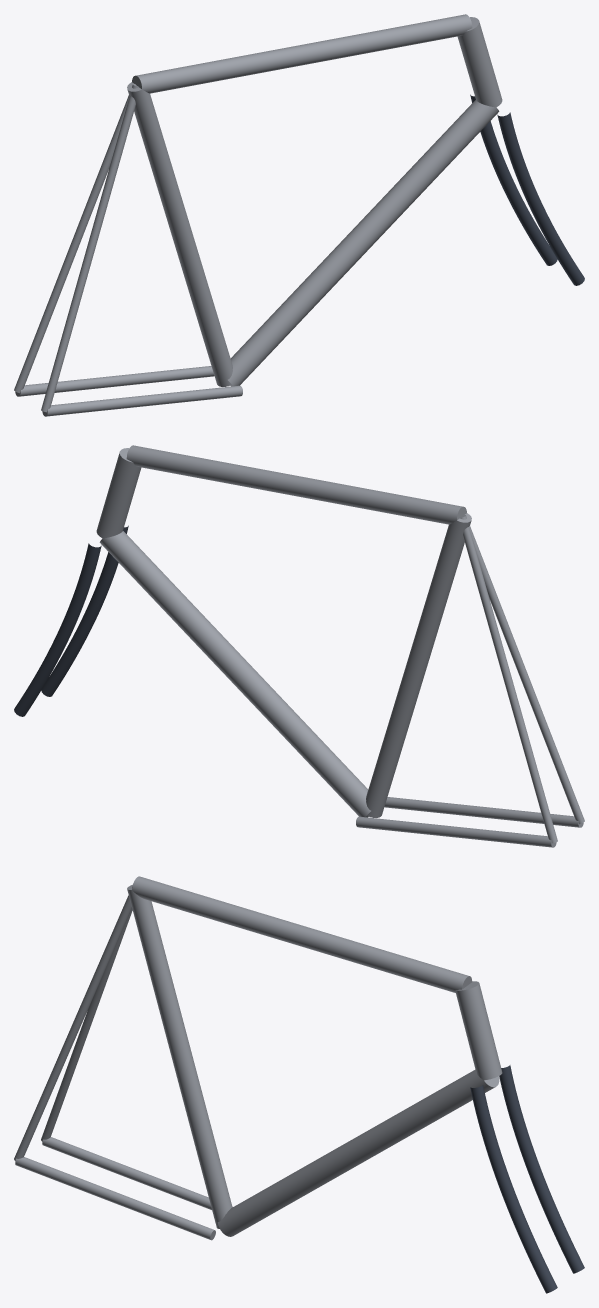
Rendered from cinelli-vigorelli-rainbow-xl.glb.
3 renders of one model, top to bottom at view 1: azimuth 30°, elevation 25°; view 2: azimuth 150°, elevation 25°; view 3: azimuth 330°, elevation 25°, orthographic.
Visible parts, largest first — view 1: paint_down, paint_top, paint_seat, paint_seatstay_0.045, paint_seatstay_-0.045, fork_0.045, paint_chainstay_0.045, paint_chainstay_-0.045, fork_-0.045, paint_head; view 2: paint_down, paint_top, paint_seat, paint_seatstay_-0.045, paint_seatstay_0.045, fork_-0.045, paint_chainstay_-0.045, paint_chainstay_0.045, fork_0.045, paint_head; view 3: paint_down, paint_top, paint_seat, fork_0.045, fork_-0.045, paint_seatstay_0.045, paint_head, paint_chainstay_0.045, paint_chainstay_-0.045, paint_seatstay_-0.045.
Boxes of the visible parts, <box> form: paint_down: <box>228,100,499,386</box>; paint_top: <box>132,14,472,93</box>; paint_seat: <box>127,82,232,386</box>; paint_seatstay_0.045: <box>41,85,138,412</box>; paint_seatstay_-0.045: <box>14,84,136,393</box>; fork_0.045: <box>497,112,584,285</box>; paint_chainstay_0.045: <box>42,385,242,416</box>; paint_chainstay_-0.045: <box>15,366,214,396</box>; fork_-0.045: <box>470,94,557,265</box>; paint_head: <box>457,17,502,107</box>; paint_down: <box>99,531,370,817</box>; paint_top: <box>126,445,466,524</box>; paint_seat: <box>366,513,471,817</box>; paint_seatstay_-0.045: <box>460,516,557,843</box>; paint_seatstay_0.045: <box>462,515,584,824</box>; fork_-0.045: <box>14,543,101,716</box>; paint_chainstay_-0.045: <box>356,816,556,847</box>; paint_chainstay_0.045: <box>384,797,583,827</box>; fork_0.045: <box>41,525,128,696</box>; paint_head: <box>96,448,141,538</box>; paint_down: <box>217,1069,499,1236</box>; paint_top: <box>132,876,472,992</box>; paint_seat: <box>127,884,232,1228</box>; fork_0.045: <box>470,1085,557,1293</box>; fork_-0.045: <box>499,1065,584,1273</box>; paint_seatstay_0.045: <box>14,887,132,1160</box>; paint_head: <box>455,981,502,1080</box>; paint_chainstay_0.045: <box>15,1157,215,1240</box>; paint_chainstay_-0.045: <box>42,1137,232,1209</box>; paint_seatstay_-0.045: <box>41,908,132,1141</box>.
Bounding box in the file's own units: 1.04 × 0.6137 × 0.112.
